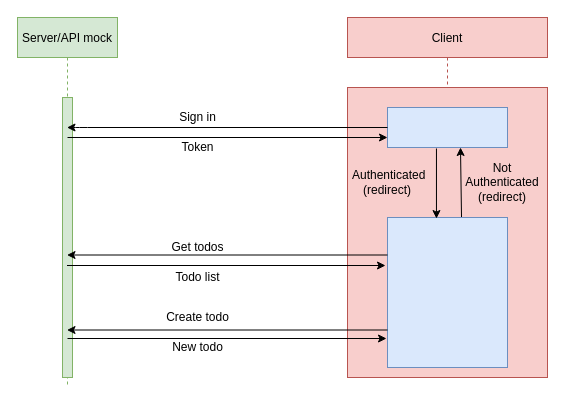
This 565x405 diagram has some shape labels left out. The centre of each missing label's shape, as x and y in pixels:
"Sign in page" goes at (447,127).
"Todo page" goes at (447,292).
